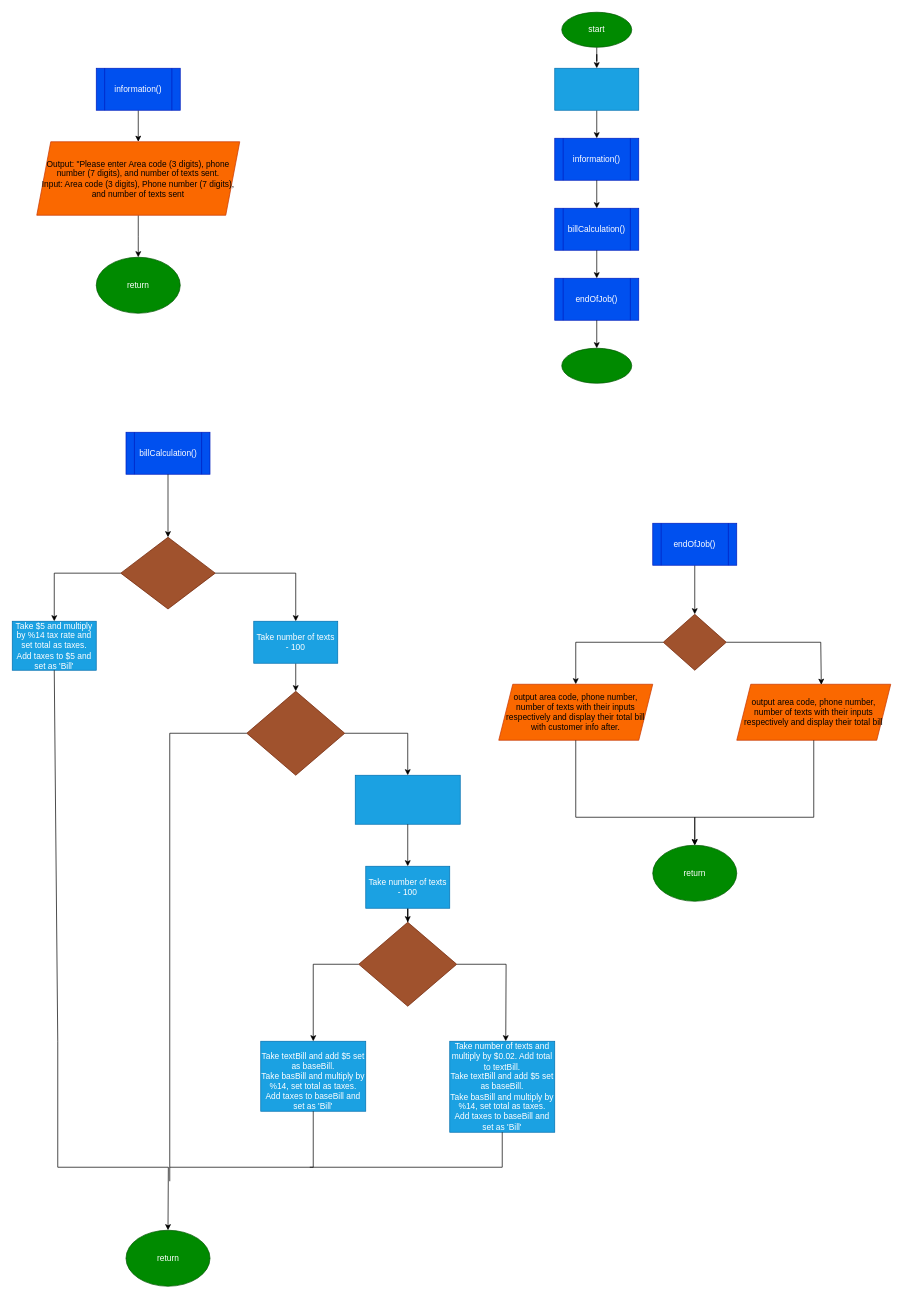
The diagram is 903 pixels wide and 1299 high, and some of its shapes have lost their labels. Here are the shapes that lost their labels. From the top down, the box of each, then its label:
(554, 68, 639, 110): Declarations: Area code, phone number, number of texts sent
(561, 348, 632, 383): stop
(120, 537, 215, 609): Number of texts not 100<?
(663, 614, 726, 670): Is 'Bill' not $10<?
(246, 691, 345, 775): Are number of texts <=200?
(355, 775, 460, 824): Take number of texts and multiply by $0.03. Set total to textBill.
(358, 922, 457, 1006): Are number of texts <100?
